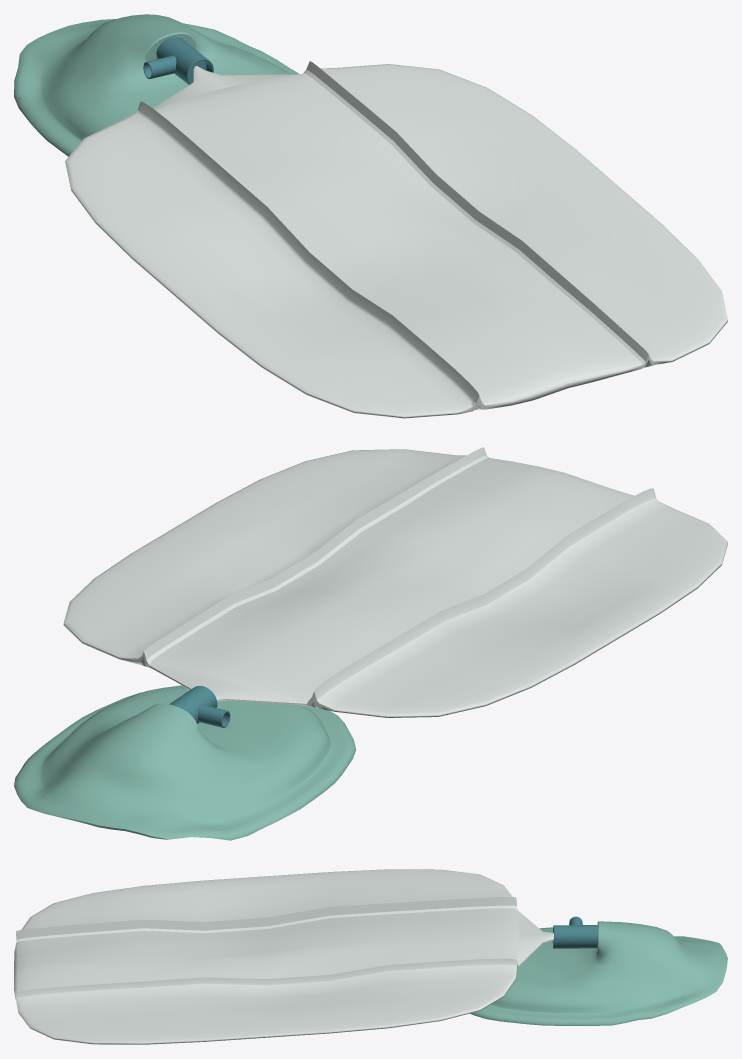
File: BCMM_OxygenMask.fbx
3 renders of one model, top to bottom at view 1: azimuth 30°, elevation 25°; view 2: azimuth 150°, elevation 25°; view 3: azimuth 270°, elevation 25°, orthographic. The views are drawn at different scales.
Parts seen in each view (by area): view 1: BCMM_OxygenMask; view 2: BCMM_OxygenMask; view 3: BCMM_OxygenMask.
Boxes of the visible parts, left/top/right/bottom form: BCMM_OxygenMask: left=14, top=14, right=727, bottom=418; BCMM_OxygenMask: left=14, top=447, right=727, bottom=840; BCMM_OxygenMask: left=14, top=869, right=727, bottom=1044.
Size of what is drawn, in the model's own units: 11.65 by 1.88 by 22.
